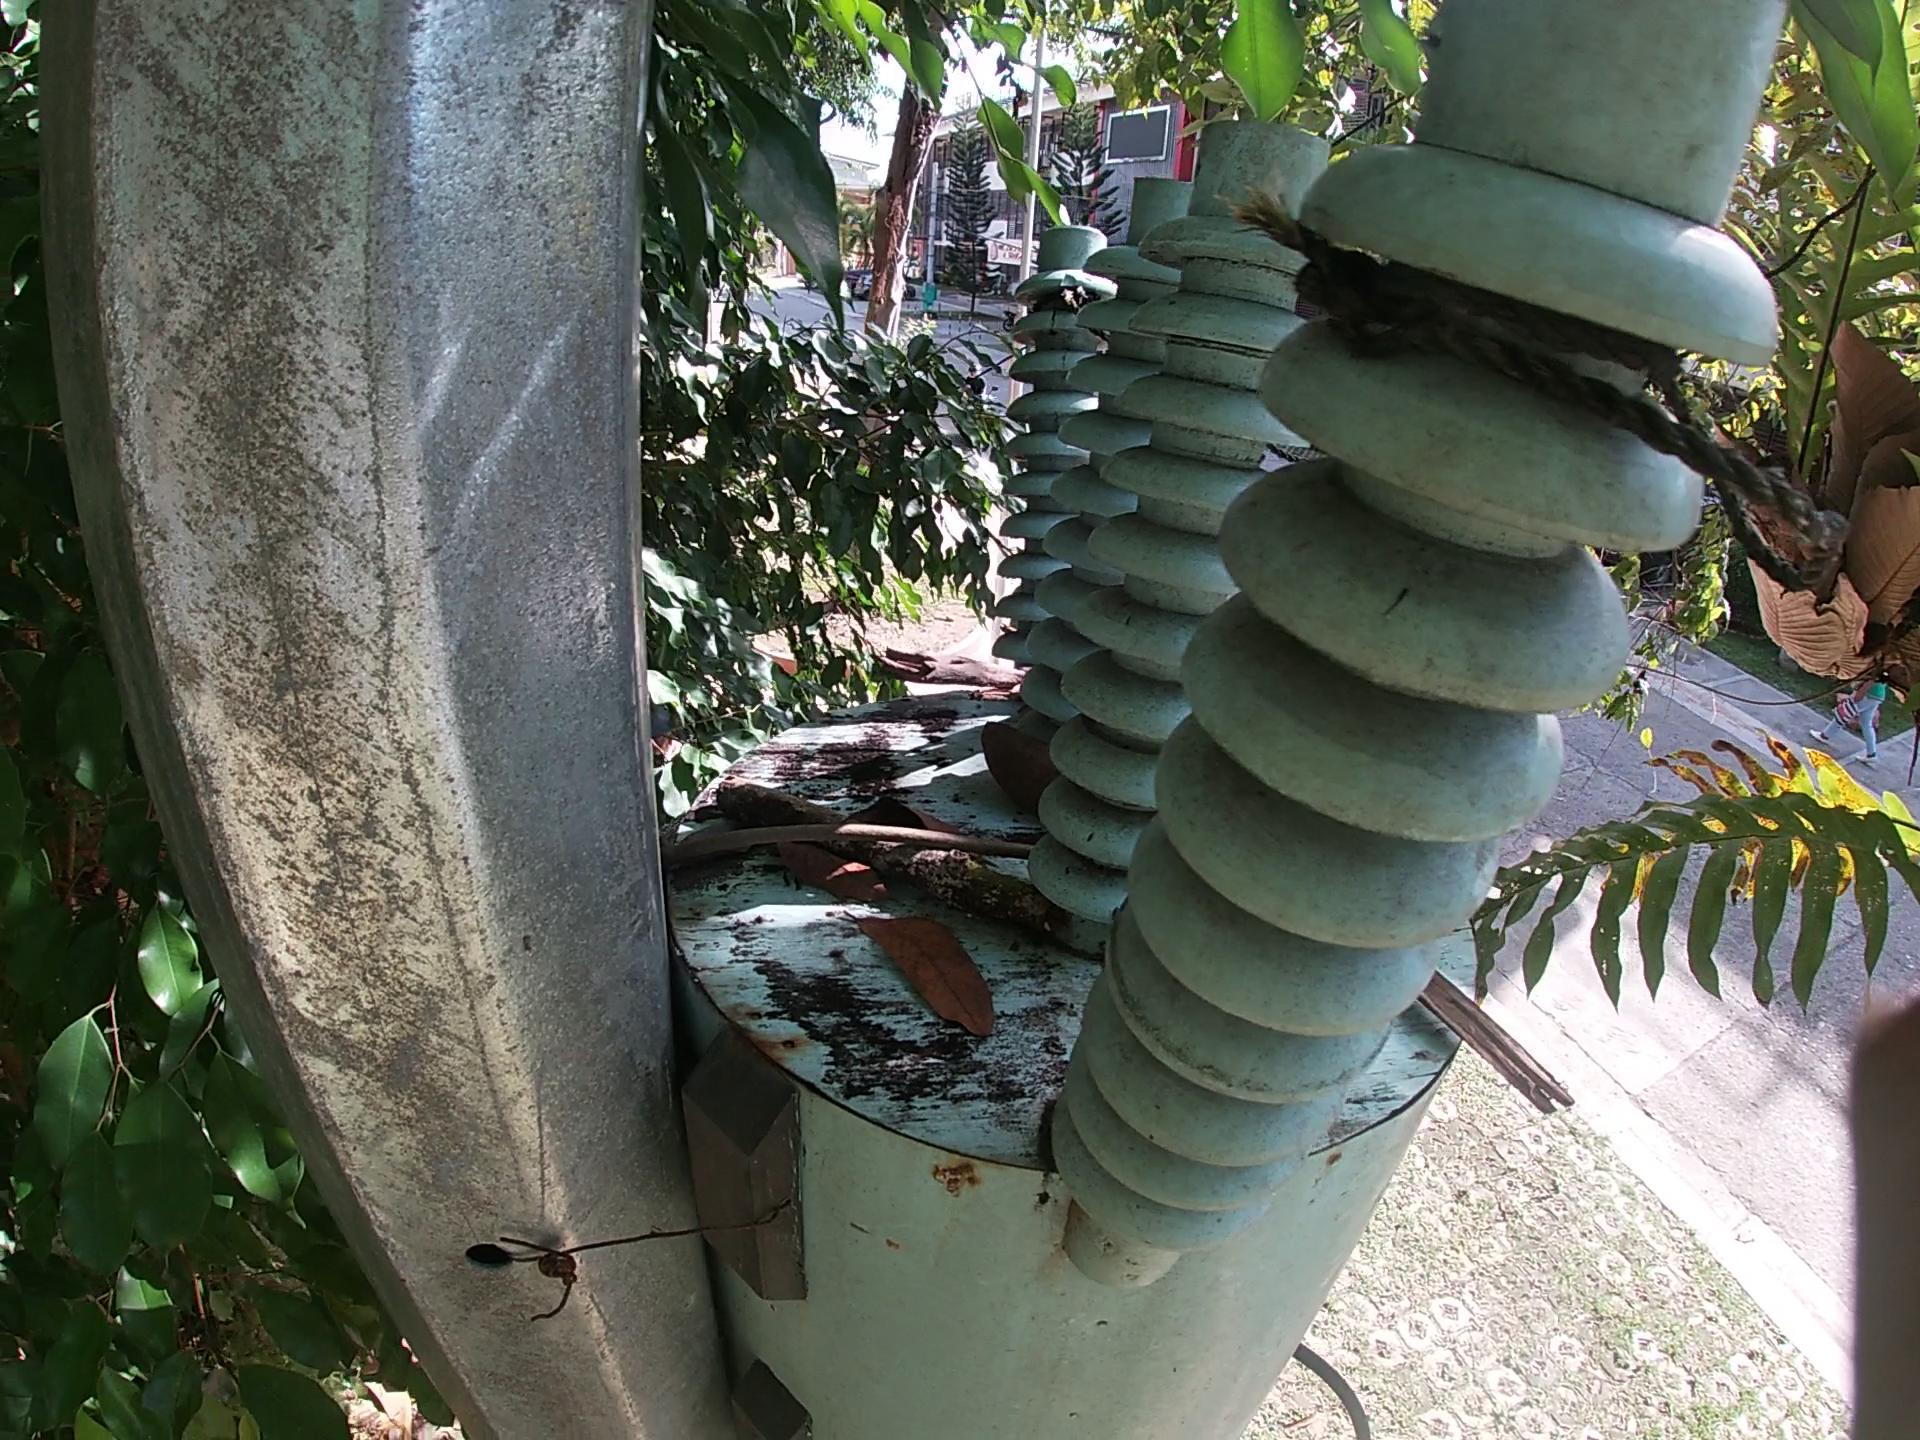leaf: (851, 906, 1042, 1038), (788, 856, 904, 914)
mahogany fruit: (978, 714, 1049, 805)
tree branch: (735, 790, 1113, 945), (1417, 964, 1589, 1145), (659, 821, 1042, 886), (856, 640, 1011, 709)
